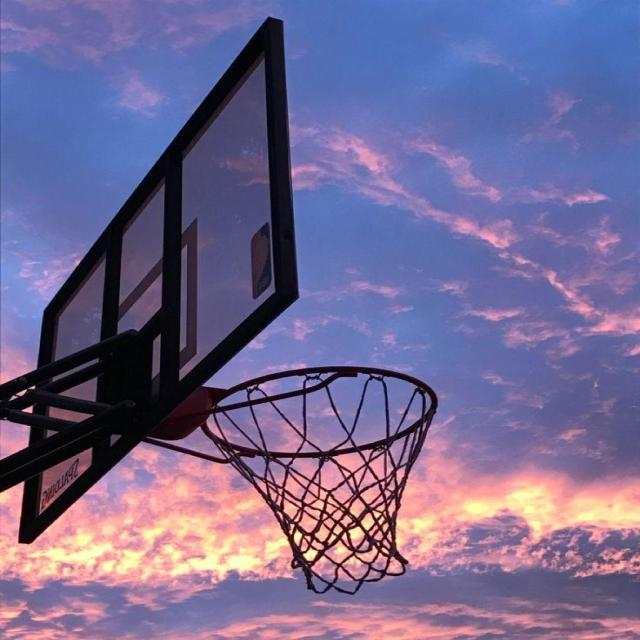hoop: (206, 353, 466, 605)
